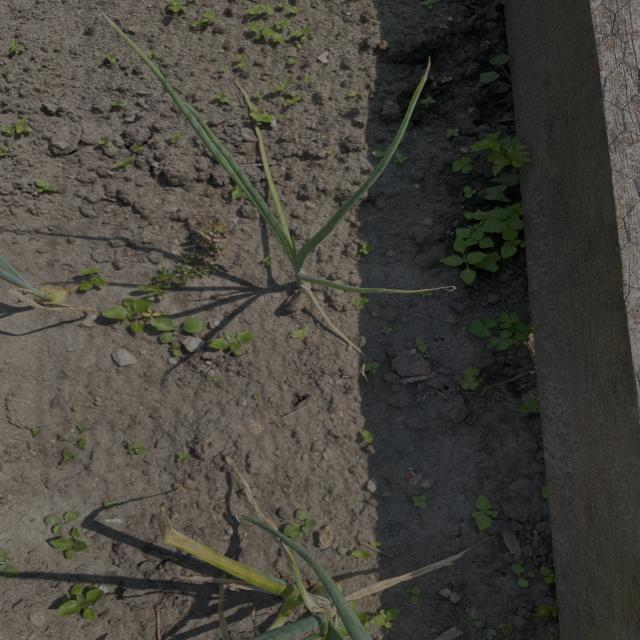Onion: (176, 99, 454, 334), (154, 504, 446, 640), (0, 257, 80, 324)
weed: (438, 131, 529, 283), (150, 218, 228, 295), (231, 0, 314, 44), (30, 508, 100, 558), (464, 311, 536, 357), (107, 294, 158, 338), (152, 310, 205, 351), (210, 322, 262, 360), (64, 580, 104, 626), (56, 422, 95, 466), (478, 51, 514, 96), (468, 494, 503, 536), (337, 538, 384, 568), (509, 564, 563, 590), (277, 506, 320, 537), (514, 386, 548, 422), (76, 264, 111, 298), (457, 364, 493, 397), (470, 617, 517, 640), (357, 607, 399, 632), (114, 142, 144, 171), (0, 547, 24, 581), (225, 51, 253, 77), (527, 602, 565, 621), (1, 118, 35, 139), (407, 486, 434, 511), (344, 293, 373, 315), (27, 173, 62, 191), (6, 39, 36, 59), (192, 11, 220, 31), (404, 582, 424, 610), (246, 108, 275, 127), (362, 358, 384, 382), (358, 427, 379, 452), (368, 320, 394, 340), (359, 236, 379, 260), (392, 144, 410, 169), (98, 49, 122, 66), (411, 336, 432, 355), (105, 95, 128, 112), (30, 423, 48, 444), (125, 440, 147, 454), (172, 449, 190, 466), (440, 70, 457, 87), (168, 0, 184, 15), (421, 0, 440, 10), (286, 56, 300, 68)
